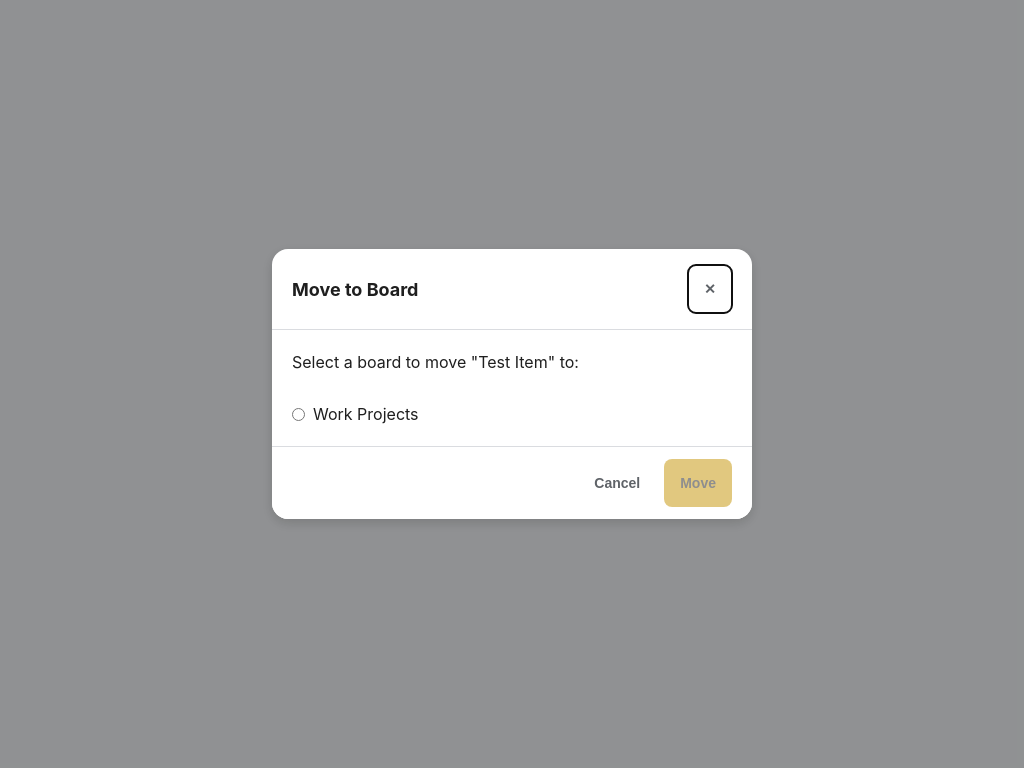
it: MoveToBoardModal › shows subtask count warning when subtasks exist and board is selected
The image size is (1024, 768).
Step 1. Click the radio button labelled "Work Projects" → x=298, y=414, box [292, 408, 305, 420]
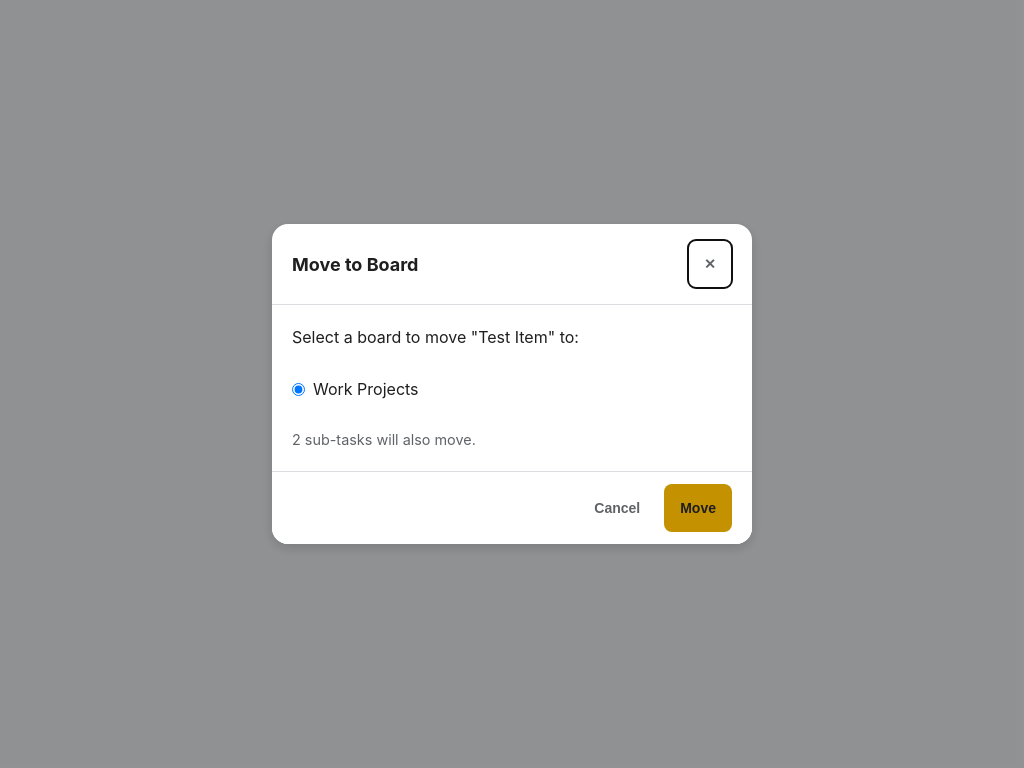
Expected: the text with class "move-subtask-warning" reads "2 sub-tasks will also move.", [292, 431, 476, 448]
